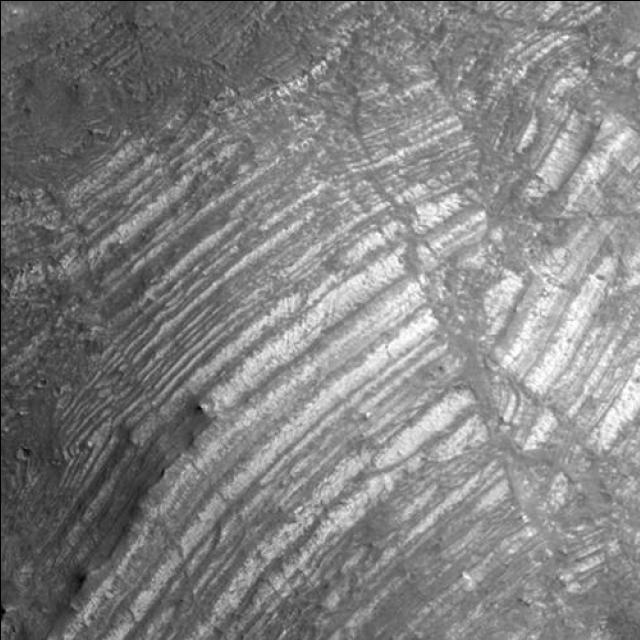crater: (62, 0, 116, 26), (13, 442, 37, 464), (34, 374, 50, 390), (521, 244, 535, 256), (20, 104, 30, 120), (262, 0, 278, 9), (240, 0, 256, 9), (218, 0, 235, 8), (632, 450, 640, 466), (98, 0, 117, 6), (634, 80, 640, 99), (220, 0, 234, 8), (70, 82, 80, 92), (375, 0, 391, 6), (635, 624, 640, 634), (335, 0, 347, 4), (636, 492, 640, 502), (636, 502, 640, 511), (188, 0, 197, 4)
